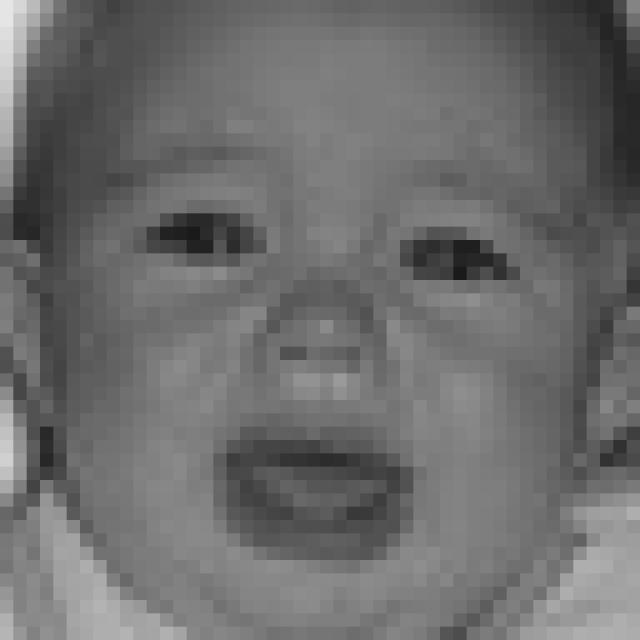sad: (88, 135, 568, 574)
